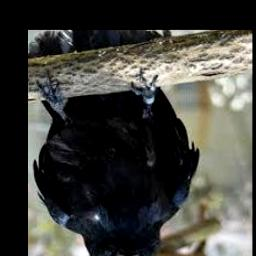Crow: (33, 70, 200, 256)
